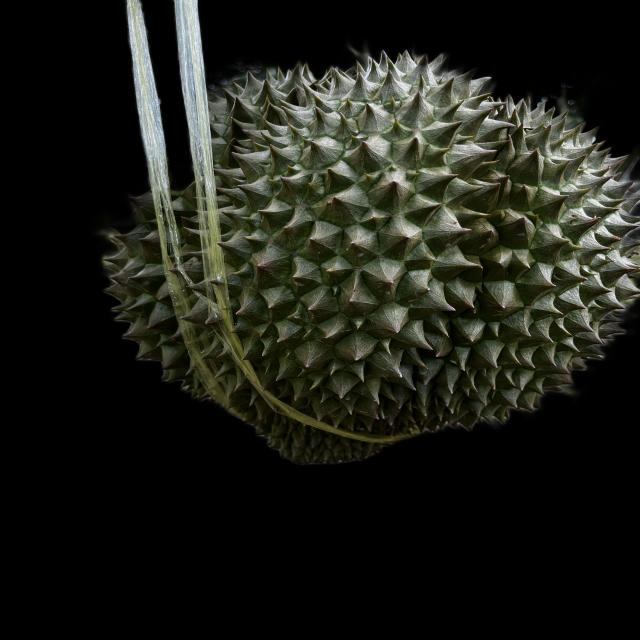immature: (98, 45, 640, 460)
